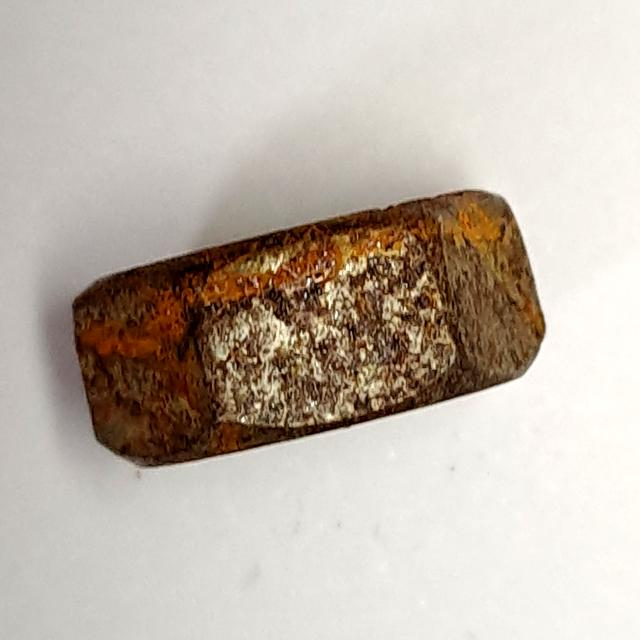Side_Rust: (59, 179, 558, 477)
